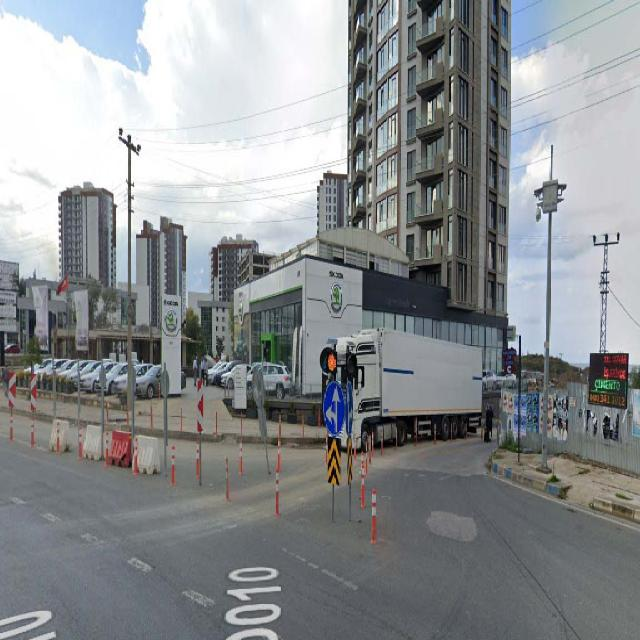ilerisag: (344, 383, 354, 436)
ilerisol: (324, 381, 344, 436)
